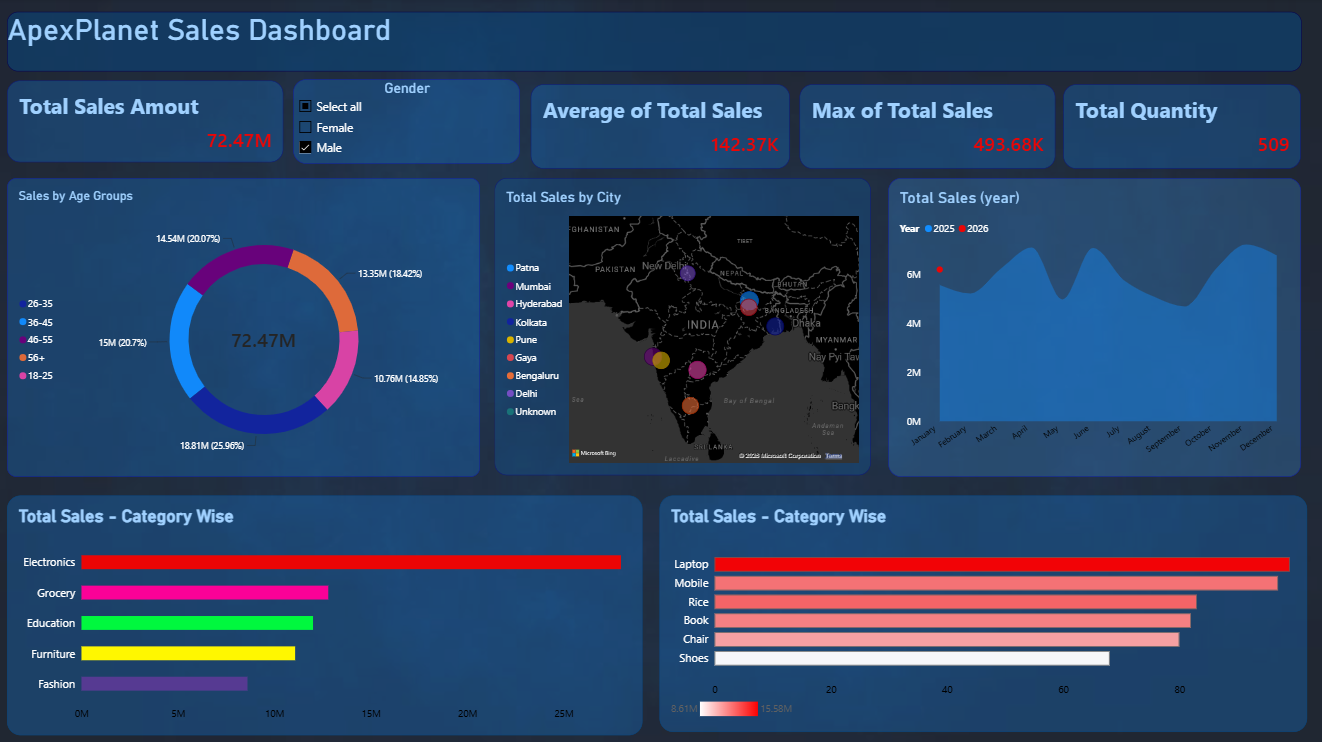

Layout of this report page (visuals, bound fields, positions):
{"tool":"powerbi","page":{"name":"Page 1","canvas":[1920,1080],"ordinal":0},"visuals":[{"type":"clusteredBarChart","title":"Total Sales - Category Wise","fields":{"Category":["Dim_Product.Category"],"Y":["Sum(Fact_Sales.Total_Sales)"]},"box":[15,720,920,347.5],"z":0},{"type":"clusteredBarChart","title":"Total Sales - Category Wise","fields":{"Category":["Dim_Product.Product"],"Y":["CountNonNull(Fact_Sales.Quantity)"]},"box":[960,720,937.5,342.5],"z":1000},{"type":"stackedAreaChart","title":"Total Sales (year)","fields":{"Y":["Sum(Fact_Sales.Total_Sales)"],"Category":["Dim_Date.Date.Variation.Date Hierarchy.Month"],"Series":["Dim_Date.Date.Variation.Date Hierarchy.Year"]},"box":[1290,260,597.5,432.5],"z":2000},{"type":"donutChart","title":"Sales by Age Groups","fields":{"Category":["Dim_Customers.Age_Group"],"Y":["Sum(Fact_Sales.Total_Sales)"]},"box":[15,260,685,432.5],"z":3000},{"type":"slicer","title":"Gender ","fields":{"Values":["Dim_Customers.Gender"]},"box":[428,118,328,122],"z":4000},{"type":"map","title":"Total Sales by City","fields":{"Category":["Dim_Location.City"],"Size":["Sum(Fact_Sales.Total_Sales)"],"Series":["Dim_Location.City"]},"box":[720,260,545,430],"z":5000},{"type":"cardVisual","title":"total","fields":{"Data":["CountNonNull(Fact_Sales.Quantity)"]},"box":[1544,124,344,122],"z":6000},{"type":"shape","title":"ApexPlanet Sales Dashboard","box":[14,20,1874,86],"z":7000},{"type":"cardVisual","title":"total","fields":{"Data":["Sum(Fact_Sales.Total_Sales)"]},"box":[14,120,400,118],"z":8000},{"type":"cardVisual","title":"total","fields":{"Data":["Avg(Fact_Sales.Total_Sales)"]},"box":[772,124,375,122.5],"z":9000},{"type":"cardVisual","title":"total","fields":{"Data":["Max(Fact_Sales.Total_Sales)"]},"box":[1162,124,370,122],"z":10000}]}

Visuals, with their boxes in screenshot pixels (x1, y1, x2, y2), scaled from the page's 1920x1080 canvas onto the 1322x742 screenshot:
"Total Sales - Category Wise" clusteredBarChart: locate(10, 495, 644, 733)
"Total Sales - Category Wise" clusteredBarChart: locate(661, 495, 1307, 730)
"Total Sales (year)" stackedAreaChart: locate(888, 179, 1300, 476)
"Sales by Age Groups" donutChart: locate(10, 179, 482, 476)
"Gender " slicer: locate(295, 81, 521, 165)
"Total Sales by City" map: locate(496, 179, 871, 474)
"total" cardVisual: locate(1063, 85, 1300, 169)
"ApexPlanet Sales Dashboard" shape: locate(10, 14, 1300, 73)
"total" cardVisual: locate(10, 82, 285, 164)
"total" cardVisual: locate(532, 85, 790, 169)
"total" cardVisual: locate(800, 85, 1055, 169)
